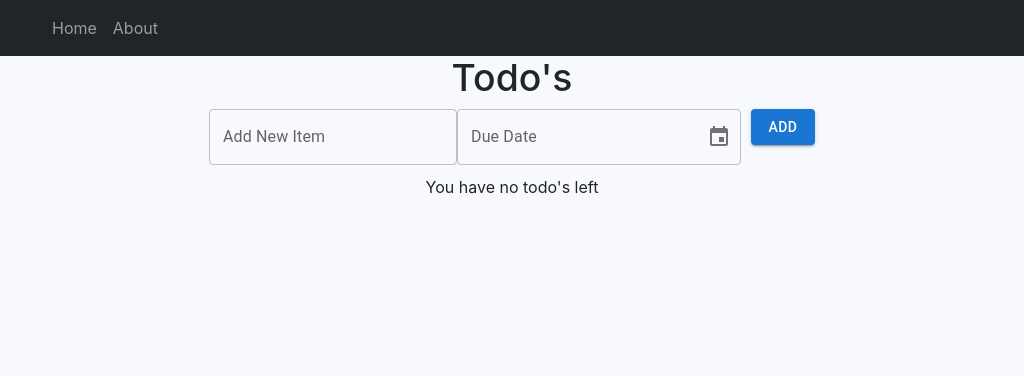
test that App component renders different colors for past due events
Type "History Test" into the field labelled "Add New Item" at (333, 137), box [209,109,457,165]
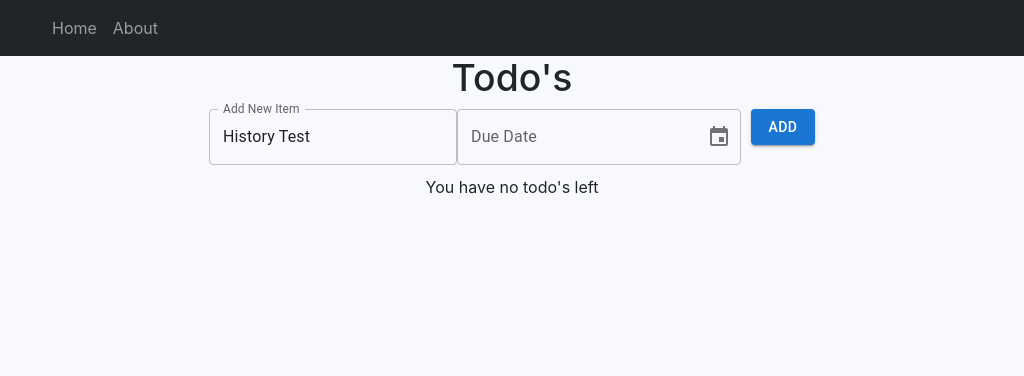
Type "05/30/2022" into the field with placeholder "mm/dd/yyyy" at (574, 137), box [457,109,691,165]
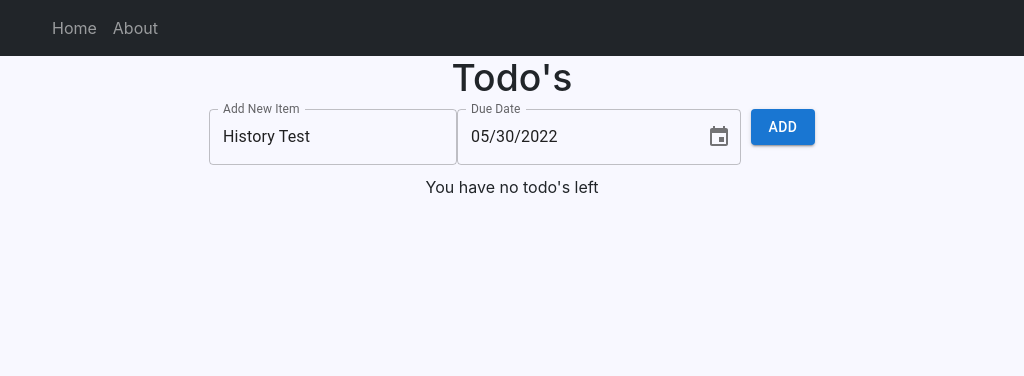
Click the button "Add" at (783, 127), box [751,109,815,145]
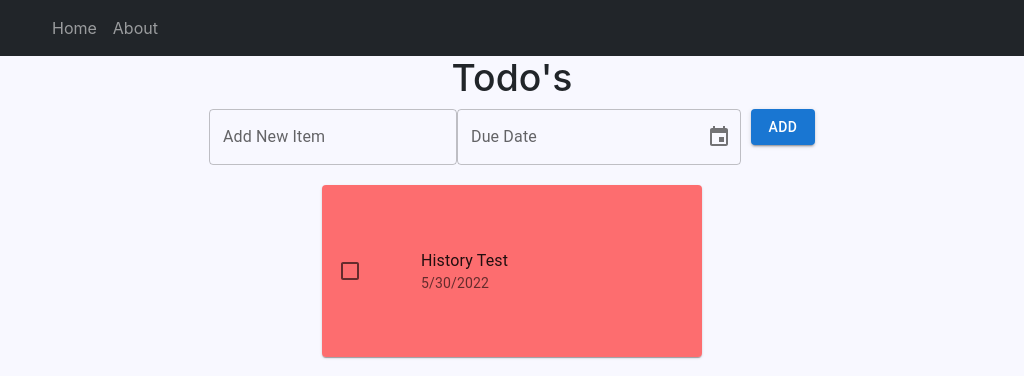
Check: the text "History Test" is shown, box [421,251,508,270]
